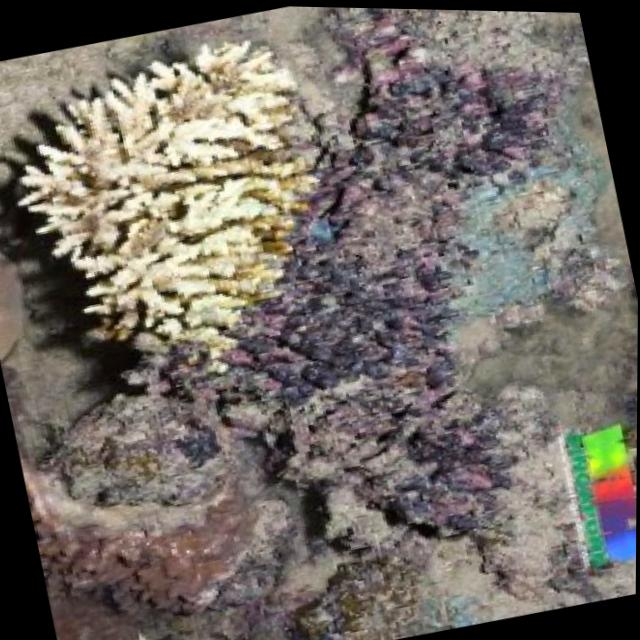Bleached Coral: (0, 14, 371, 398)
